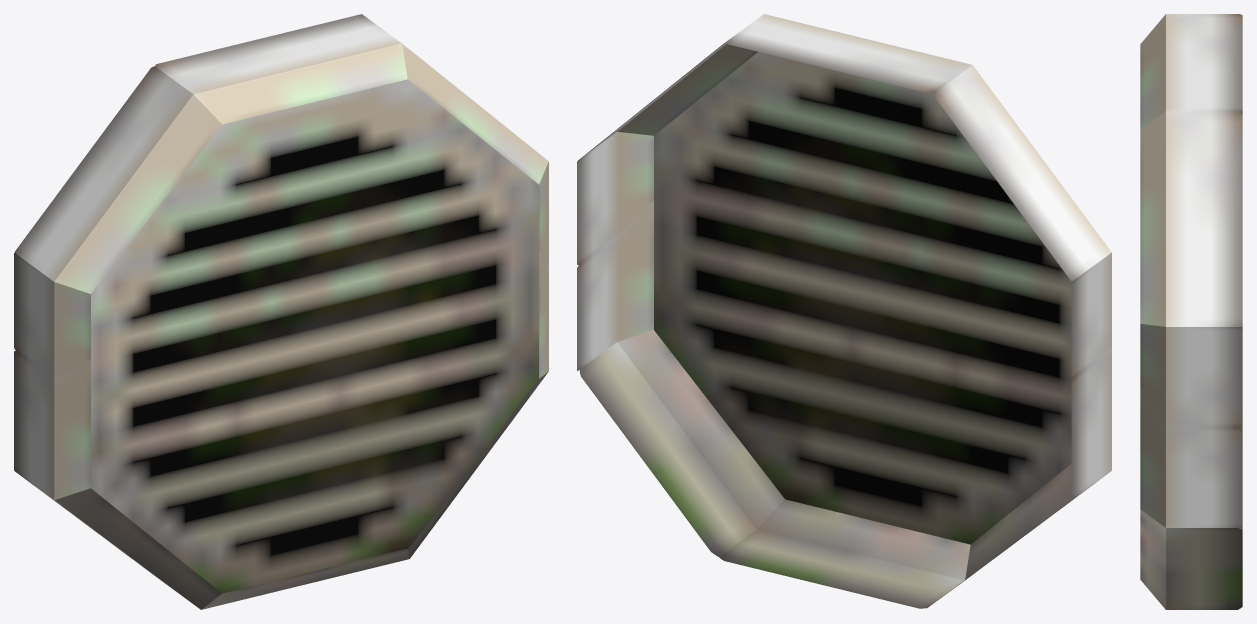
File: Poly_SF_Outside_B_Air_Vent_02.obj
The picture shows the model from 3 angles, left to right: view 1: azimuth 30°, elevation 25°; view 2: azimuth 150°, elevation 25°; view 3: azimuth 270°, elevation 25°; orthographic projection. The views are drawn at different scales.
Visible parts, largest first — view 1: Cube.001; view 2: Cube.001; view 3: Cube.001.
Boxes of the visible parts, x1,y1,x2,y2 form: Cube.001: [14, 14, 548, 609]; Cube.001: [577, 14, 1111, 608]; Cube.001: [1140, 14, 1242, 609].
Bounding box in the file's own units: 0.64 × 0.64 × 0.12.
1 material, 1 textured.
